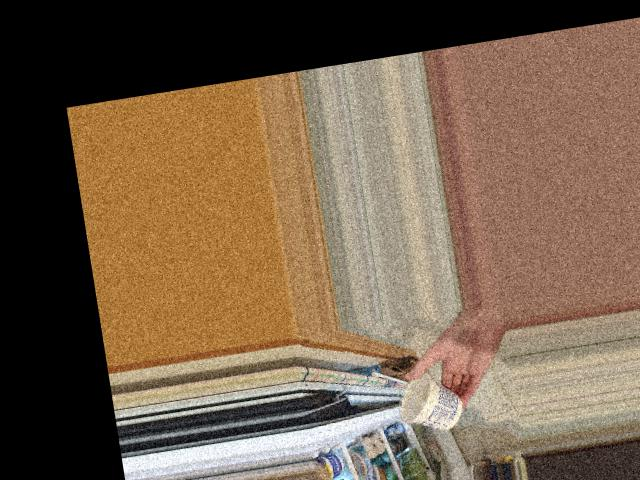cotage: (393, 365, 460, 434)
